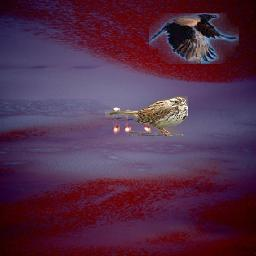Crow: (149, 14, 239, 65)
Sparrow: (106, 96, 189, 136)
